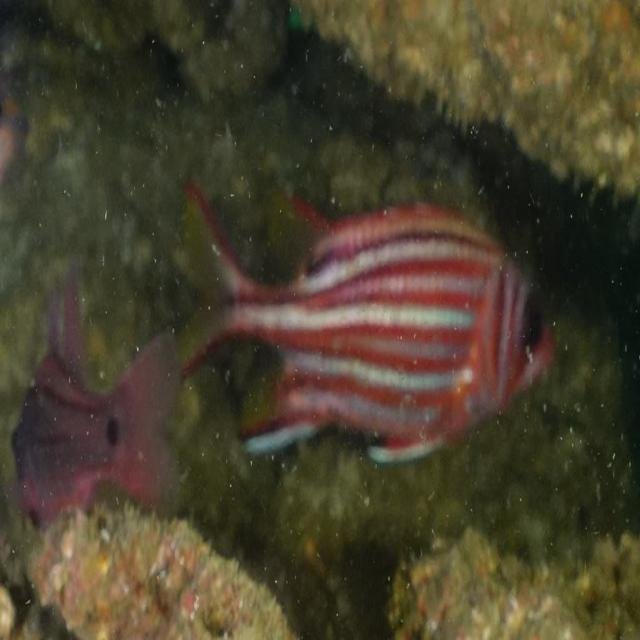Asker Baligi: (169, 166, 567, 472)
